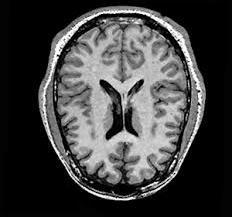Normal_Brain: (26, 3, 214, 217)
